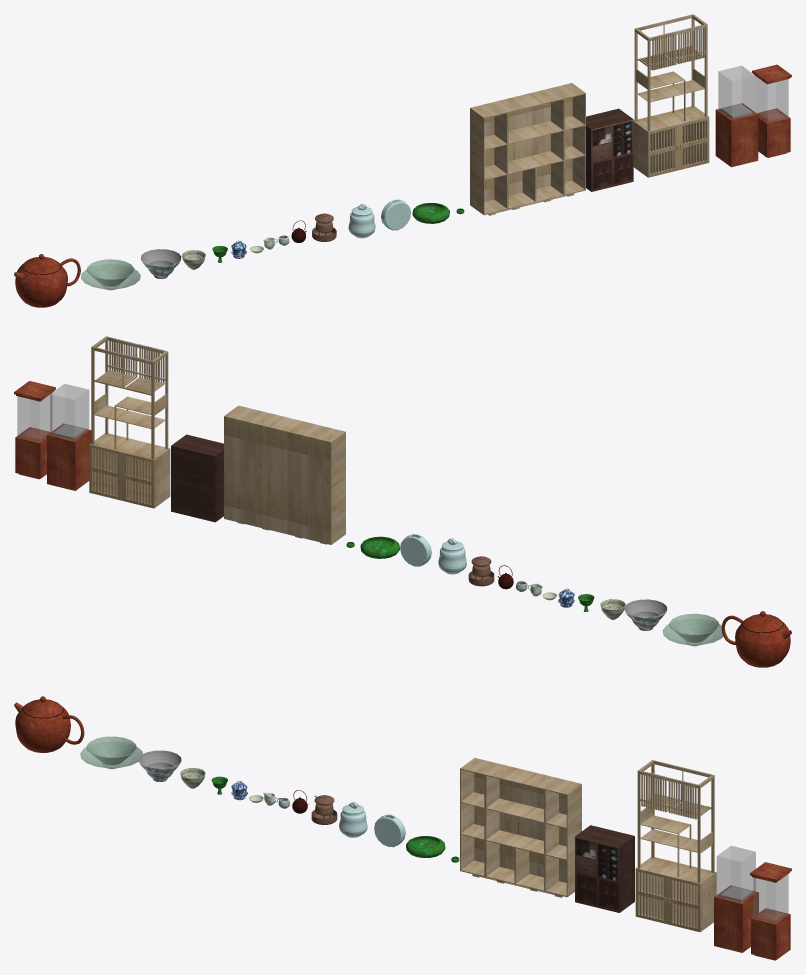
The picture shows the model from 3 angles, top to bottom: view 1: azimuth 30°, elevation 25°; view 2: azimuth 150°, elevation 25°; view 3: azimuth 330°, elevation 25°; orthographic projection. The views are drawn at different scales.
Visible parts, largest first — view 1: Rectangle006, Rectangle010, guizi, Sphere001, Rectangle011, Rectangle012, Rectangle014, Line002, Rectangle016, Box001, Line016, Circle004 (+3 smaller); view 2: Rectangle006, Rectangle010, Box001, Sphere001, Rectangle011, Rectangle012, Line002, Rectangle014, Rectangle016, Line016, Circle004, Line017 (+2 smaller); view 3: Rectangle006, Rectangle010, guizi, Sphere001, Rectangle011, Rectangle012, Rectangle014, Box001, Line002, Rectangle016, Line016, Circle004 (+4 smaller).
Part boxes in pixels (x1,y1,x2,y2): Rectangle006: [470, 83, 585, 215]; Rectangle010: [633, 14, 709, 177]; guizi: [591, 119, 633, 191]; Sphere001: [14, 254, 80, 307]; Rectangle011: [715, 103, 758, 167]; Rectangle012: [718, 65, 755, 119]; Rectangle014: [757, 108, 790, 157]; Line002: [81, 259, 140, 290]; Rectangle016: [755, 76, 788, 122]; Box001: [586, 108, 633, 191]; Line016: [348, 204, 375, 238]; Circle004: [381, 199, 410, 230]; Rectangle006: [224, 405, 345, 544]; Rectangle010: [89, 336, 170, 508]; Box001: [171, 434, 223, 522]; Sphere001: [721, 611, 791, 667]; Rectangle011: [47, 423, 91, 490]; Rectangle012: [50, 384, 89, 440]; Line002: [662, 613, 723, 646]; Rectangle014: [15, 427, 50, 479]; Rectangle016: [17, 393, 52, 442]; Line016: [438, 538, 466, 574]; Circle004: [400, 534, 431, 566]; Line017: [360, 536, 399, 558]; Rectangle006: [460, 758, 581, 897]; Rectangle010: [635, 760, 716, 932]; guizi: [575, 836, 619, 912]; Sphere001: [14, 696, 84, 752]; Rectangle011: [714, 885, 758, 952]; Rectangle012: [716, 846, 755, 902]; Rectangle014: [751, 908, 790, 960]; Box001: [575, 825, 634, 912]; Line002: [80, 736, 142, 769]; Rectangle016: [753, 874, 788, 923]; Line016: [339, 802, 367, 837]; Circle004: [374, 814, 405, 847].
Size of the model in its own units: 923 by 171 by 86.19.
26 materials, 21 textured.
